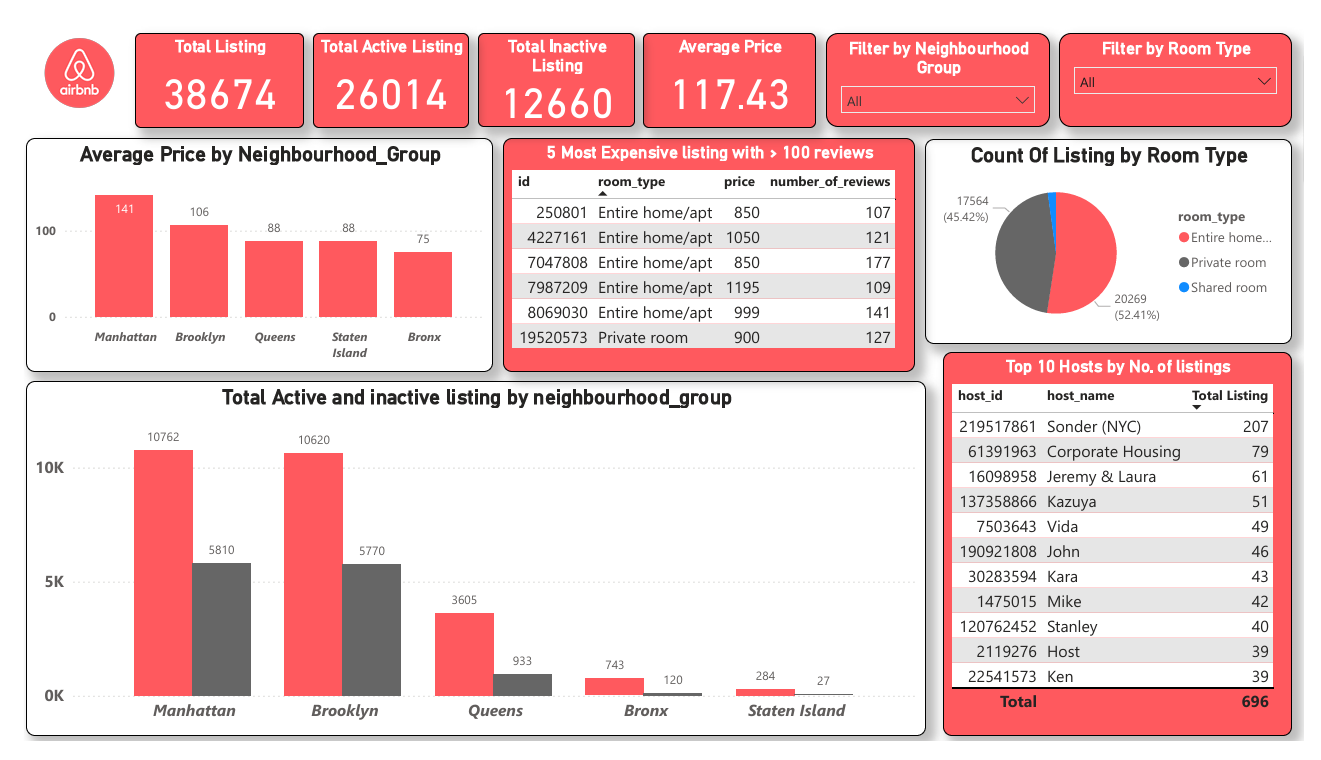

What the dashboard file says about the page in this screenshot:
{"tool":"powerbi","page":{"name":"Page 1","canvas":[1280,720],"ordinal":0},"visuals":[{"type":"columnChart","title":"Average Price by Neighbourhood_Group","fields":{"Category":["Listings.neighbourhood_group"],"Y":["Listings.avg_price_without_outlier"]},"box":[2.5,116.9,466.5,233.9],"z":0},{"type":"pieChart","title":"Count Of Listing by Room Type","fields":{"Category":["Listings.room_type"],"Y":["Listings.Total Listing"]},"box":[901.2,117.5,366.2,205],"z":1000},{"type":"clusteredColumnChart","title":"Total Active and inactive listing by neighbourhood_group","fields":{"Category":["Listings.neighbourhood_group"],"Y":["Listings.Total Active listing","Listings.Total inactive listing"]},"box":[2.5,359.5,899.4,355.8],"z":2000},{"type":"tableEx","title":"Top 10 Hosts by No. of listings","fields":{"Values":["Listings.host_id","Listings.host_name","Listings.Total Listing"]},"box":[918.8,331.2,348.8,383.8],"z":3000},{"type":"tableEx","title":"5 Most Expensive listing with > 100 reviews","fields":{"Values":["Listings.id","Listings.room_type","Listings.price","Listings.number_of_reviews"]},"box":[478.9,116.9,411.8,233.9],"z":4000},{"type":"card","title":"Total Listing","fields":{"Values":["Listings.Total Listing"]},"box":[110.7,12.4,169.2,94.5],"z":5000},{"type":"card","title":"Average Price","fields":{"Values":["Listings.avg_price_without_outlier"]},"box":[619.5,12.4,172.9,94.5],"z":6000},{"type":"card","title":"Total Inactive Listing","fields":{"Values":["Listings.Total inactive listing"]},"box":[454,12.4,156.7,93.3],"z":7000},{"type":"card","title":"Total Active Listing","fields":{"Values":["Listings.Total Active listing"]},"box":[288.6,12.4,156.7,94.5],"z":8000},{"type":"slicer","title":"Filter by Neighbourhood Group","fields":{"Values":["Listings.neighbourhood_group"]},"box":[802.4,12.4,223.9,93.3],"z":9000},{"type":"slicer","title":"Filter by Room Type","fields":{"Values":["Listings.room_type"]},"box":[1035,12.4,232.6,93.3],"z":10000},{"type":"image","box":[0,0,111.2,102.5],"z":11000}]}

Visuals, with their boxes in screenshot pixels (x1, y1, x2, y2), scaled from the page's 1280x720 canvas onto the 1321x760 screenshot:
"Average Price by Neighbourhood_Group" columnChart: [3, 123, 484, 370]
"Count Of Listing by Room Type" pieChart: [930, 124, 1308, 340]
"Total Active and inactive listing by neighbourhood_group" clusteredColumnChart: [3, 379, 931, 755]
"Top 10 Hosts by No. of listings" tableEx: [948, 350, 1308, 755]
"5 Most Expensive listing with > 100 reviews" tableEx: [494, 123, 919, 370]
"Total Listing" card: [114, 13, 289, 113]
"Average Price" card: [639, 13, 818, 113]
"Total Inactive Listing" card: [469, 13, 630, 112]
"Total Active Listing" card: [298, 13, 460, 113]
"Filter by Neighbourhood Group" slicer: [828, 13, 1059, 112]
"Filter by Room Type" slicer: [1068, 13, 1308, 112]
image: [0, 0, 115, 108]
